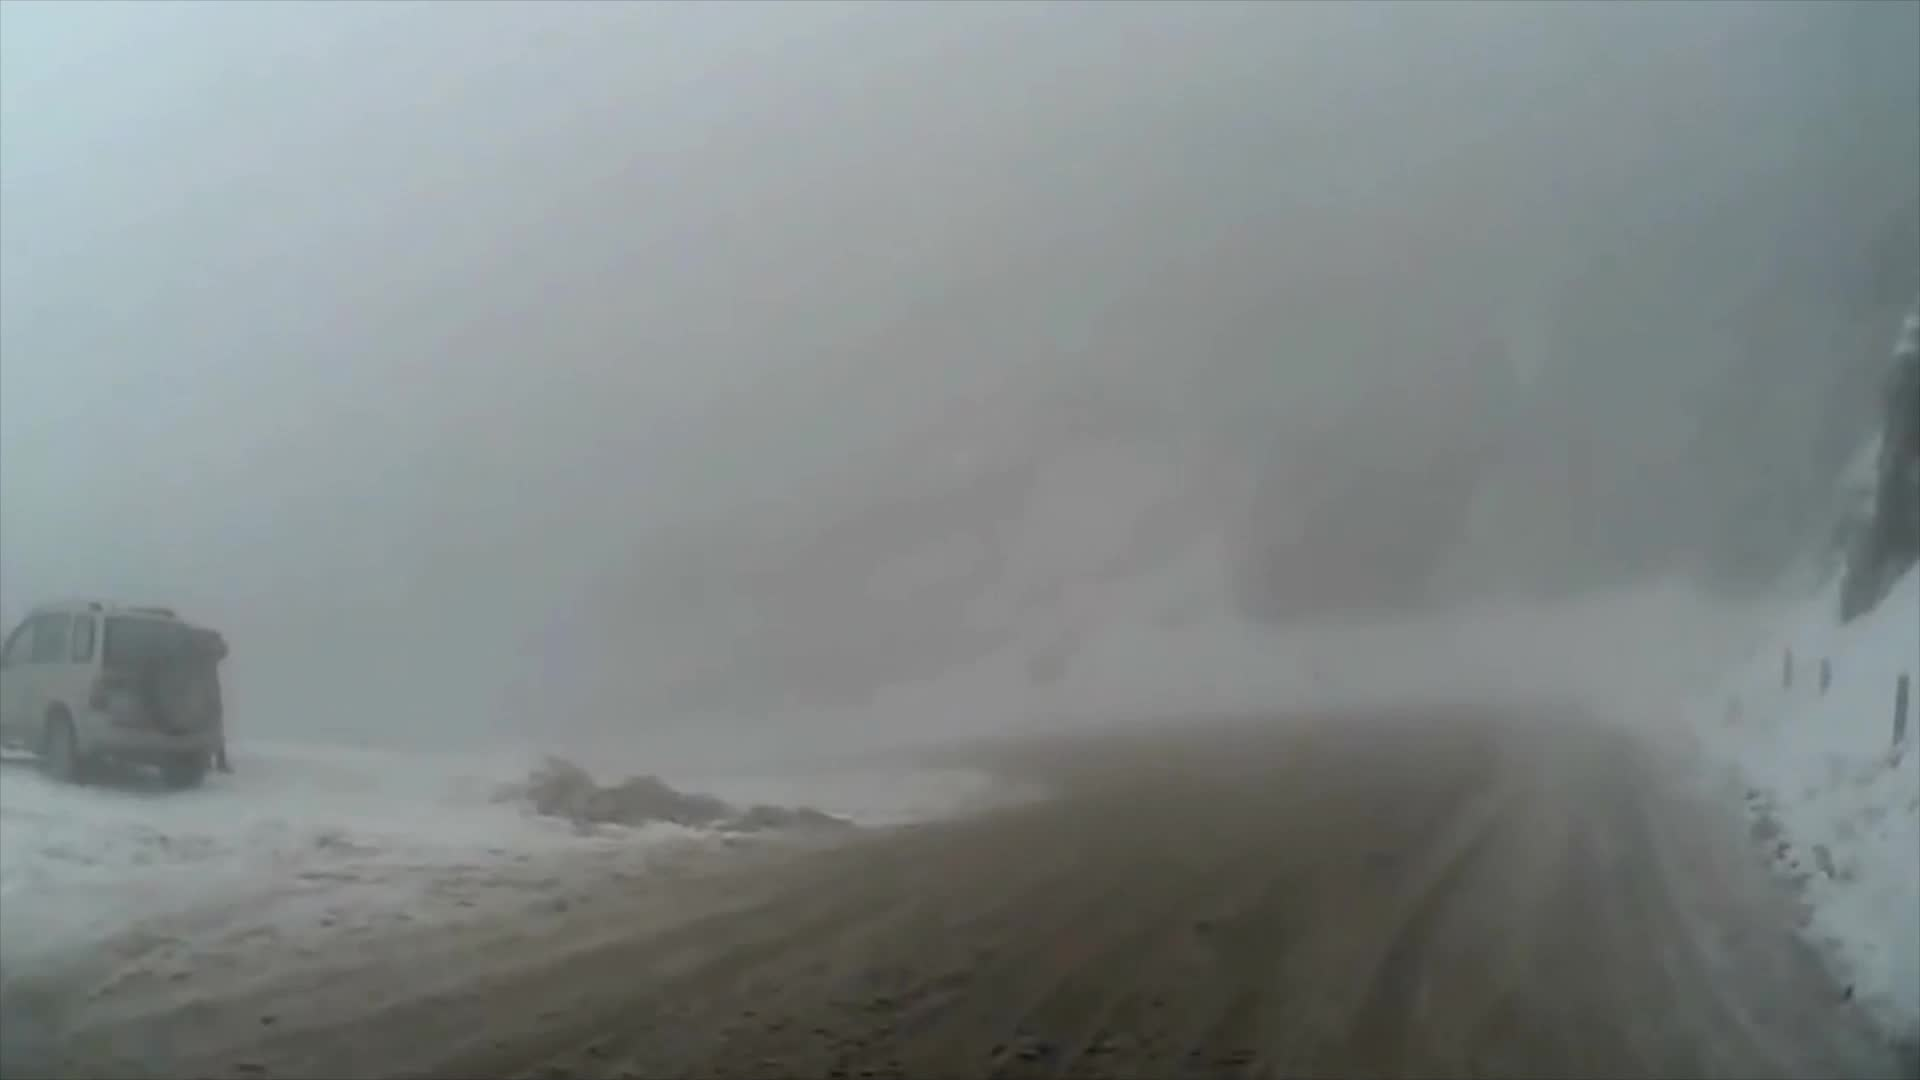vehicle: (1, 603, 214, 793)
